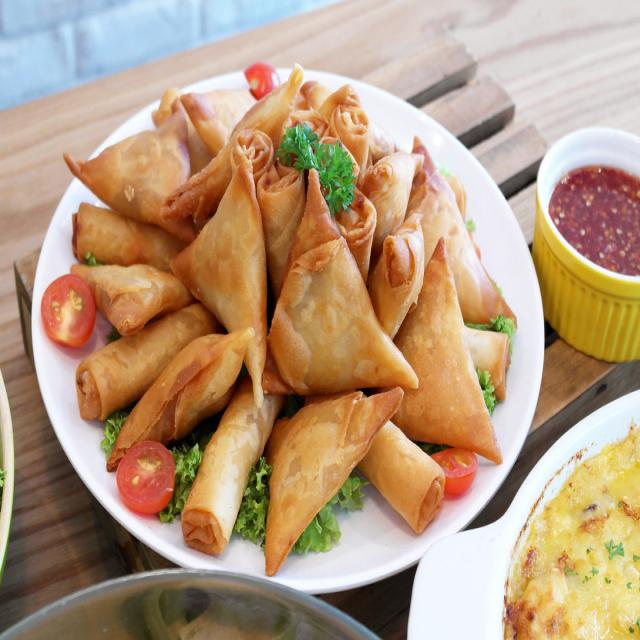Samosa: (263, 216, 380, 558), (158, 162, 260, 437), (406, 176, 485, 444), (178, 64, 304, 190), (78, 105, 188, 198), (82, 250, 183, 321)
Spring Rolls: (178, 374, 279, 555), (255, 91, 372, 246), (363, 411, 449, 529), (61, 209, 183, 263), (462, 319, 512, 394)
